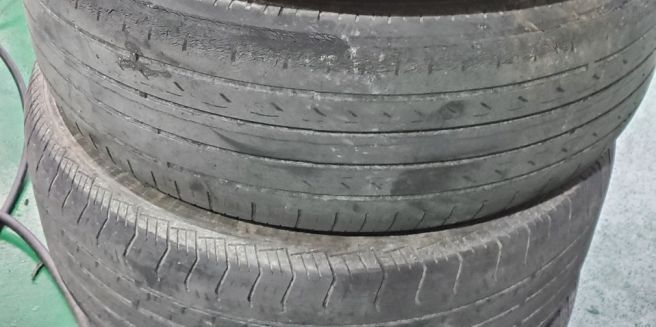bad_condition: (63, 9, 642, 215)
